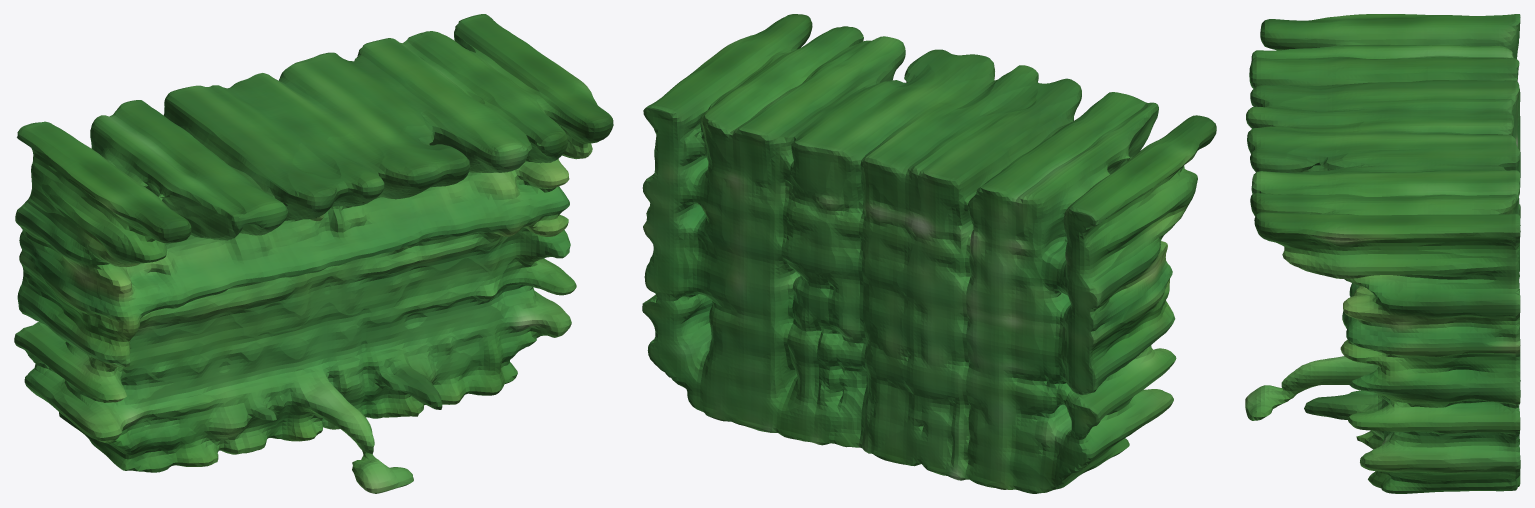
File: a_green_sofa.glb
3 renders of one model, left to right at view 1: azimuth 30°, elevation 25°; view 2: azimuth 150°, elevation 25°; view 3: azimuth 270°, elevation 25°, orthographic. The views are drawn at different scales.
Visible parts, largest first — view 1: a_green_sofa.obj; view 2: a_green_sofa.obj; view 3: a_green_sofa.obj.
Boxes of the visible parts, box(x1,y1,x2,y2) form: a_green_sofa.obj: box(14, 14, 613, 493); a_green_sofa.obj: box(642, 14, 1216, 493); a_green_sofa.obj: box(1245, 14, 1520, 493).
Size of the model in its own units: 1.94 by 1.21 by 1.02.
